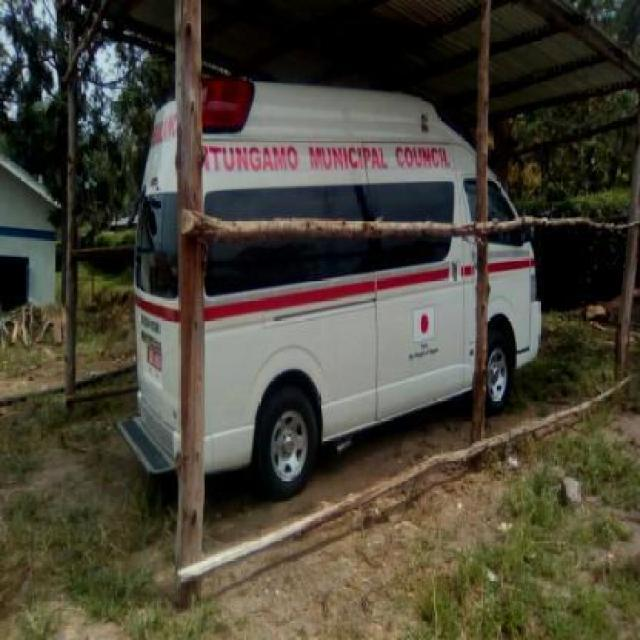emergency: (116, 72, 544, 500)
